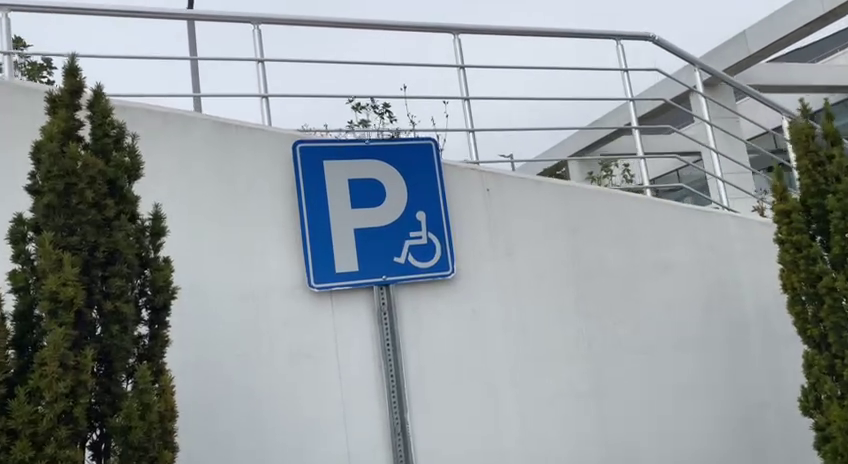parking: (290, 135, 457, 294)
